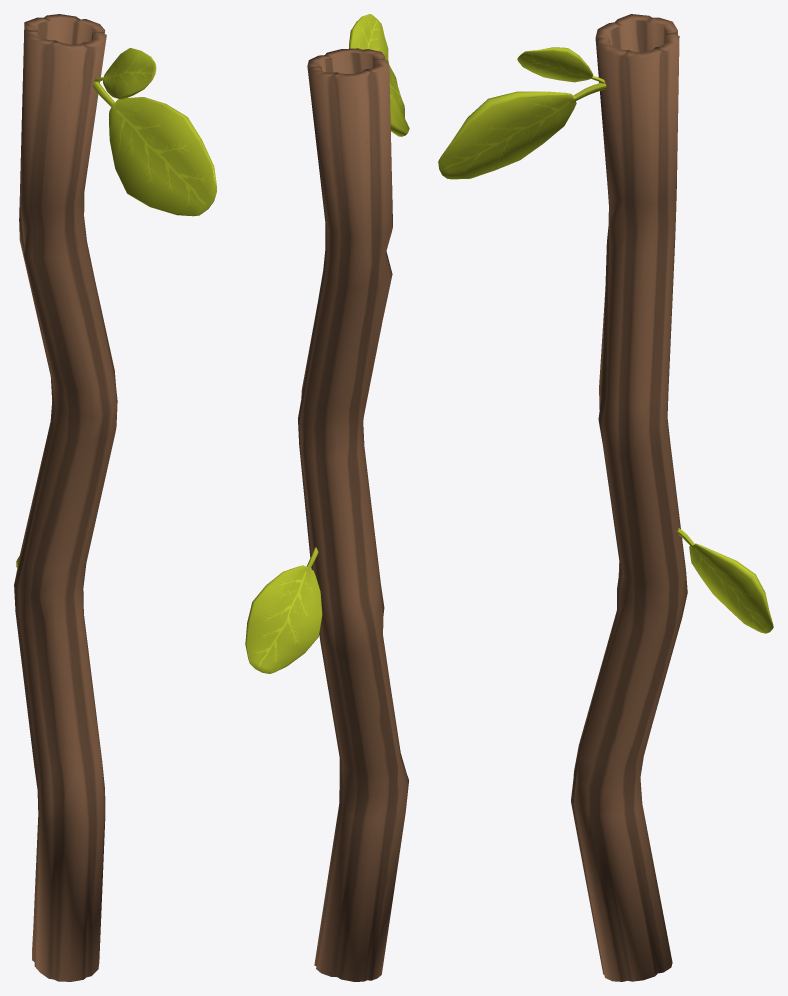
The model's file is Stick.fbx.
3 views of the same model, side by side, from view 1: azimuth 30°, elevation 25°; view 2: azimuth 150°, elevation 25°; view 3: azimuth 270°, elevation 25° (orthographic). The views are drawn at different scales.
Visible parts, largest first — view 1: Stick; view 2: Stick; view 3: Stick.
Part boxes in pixels (x1,y1,x2,y2): Stick: [14, 14, 216, 981]; Stick: [245, 14, 409, 981]; Stick: [438, 14, 773, 981].
Size of the model in its own units: 0.1201 by 1.08 by 0.3485.
